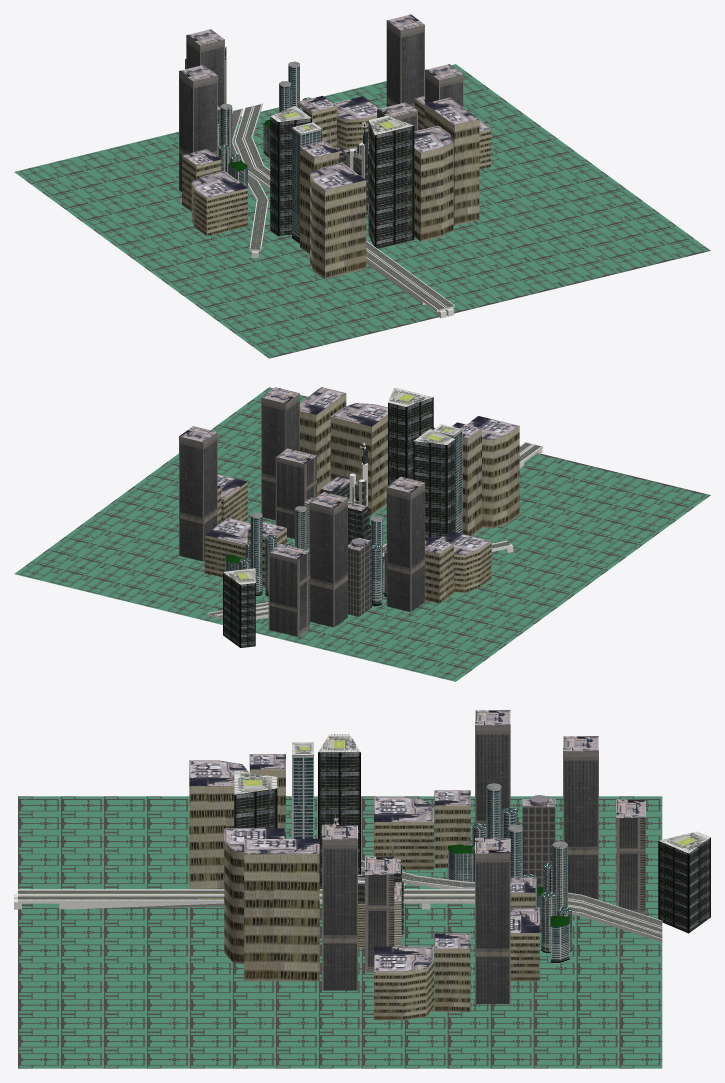
File: mitakihara_town_title 1.fbx
3 renders of one model, top to bottom at view 1: azimuth 30°, elevation 25°; view 2: azimuth 150°, elevation 25°; view 3: azimuth 270°, elevation 25°, orthographic. The views are drawn at different scales.
Parts seen in each view (by area): view 1: mitakihara_town; view 2: mitakihara_town; view 3: mitakihara_town.
Part boxes in pixels (box(x1,y1,x2,y2)): mitakihara_town: box(14, 14, 710, 358); mitakihara_town: box(14, 387, 710, 681); mitakihara_town: box(14, 710, 710, 1068).
Size of the model in its own units: 3000 by 776 by 3245.
